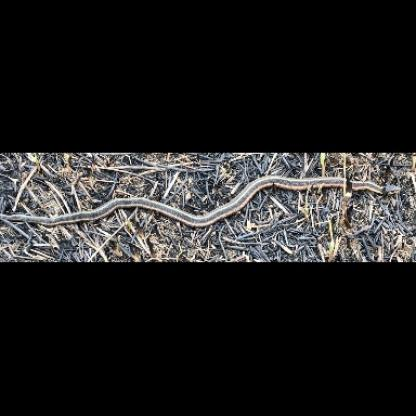Snake: (3, 172, 409, 231)
